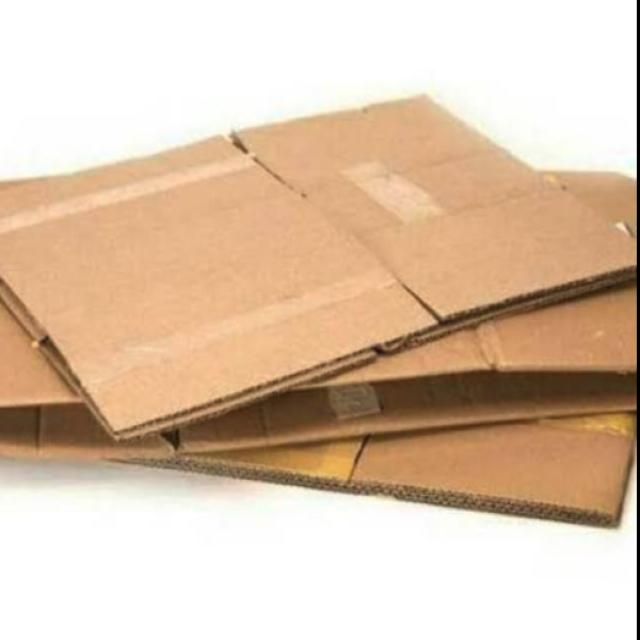Kardus: (0, 88, 639, 528)
